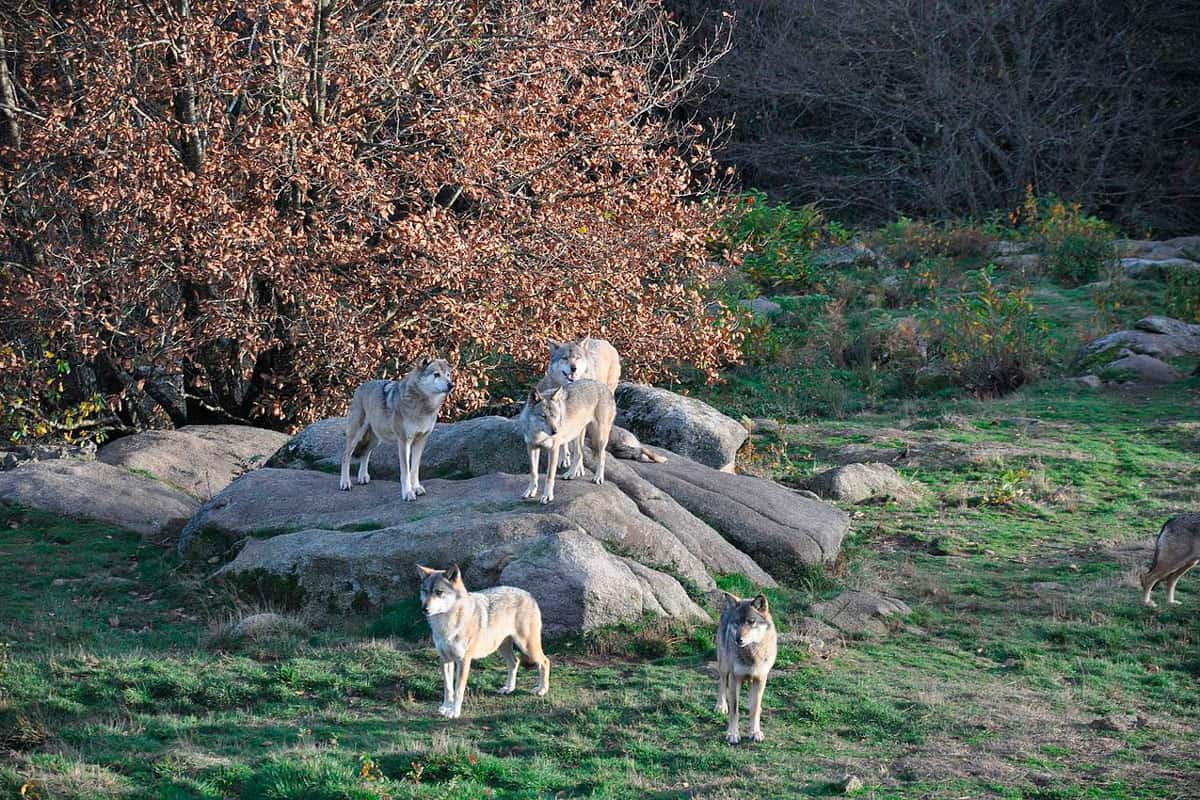Lobo: (394, 550, 570, 727), (330, 337, 480, 498), (703, 584, 815, 754), (508, 384, 655, 498), (528, 333, 620, 395)
